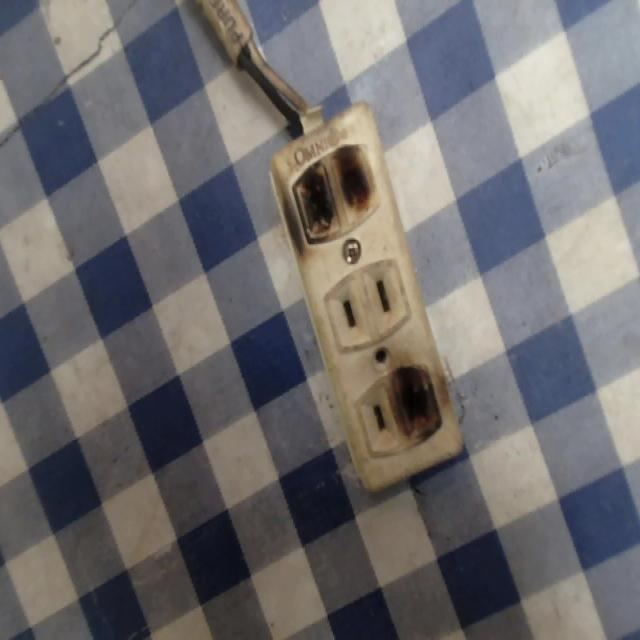-: (283, 132, 380, 251), (385, 360, 447, 443)
